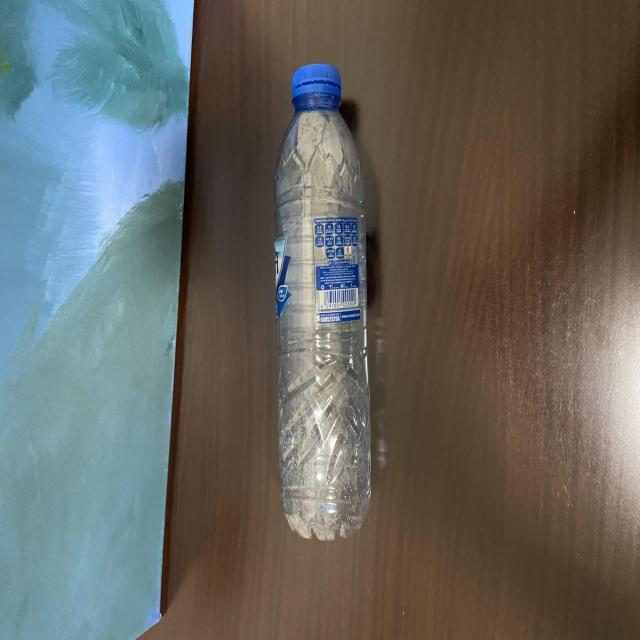bottle: (262, 54, 380, 544)
